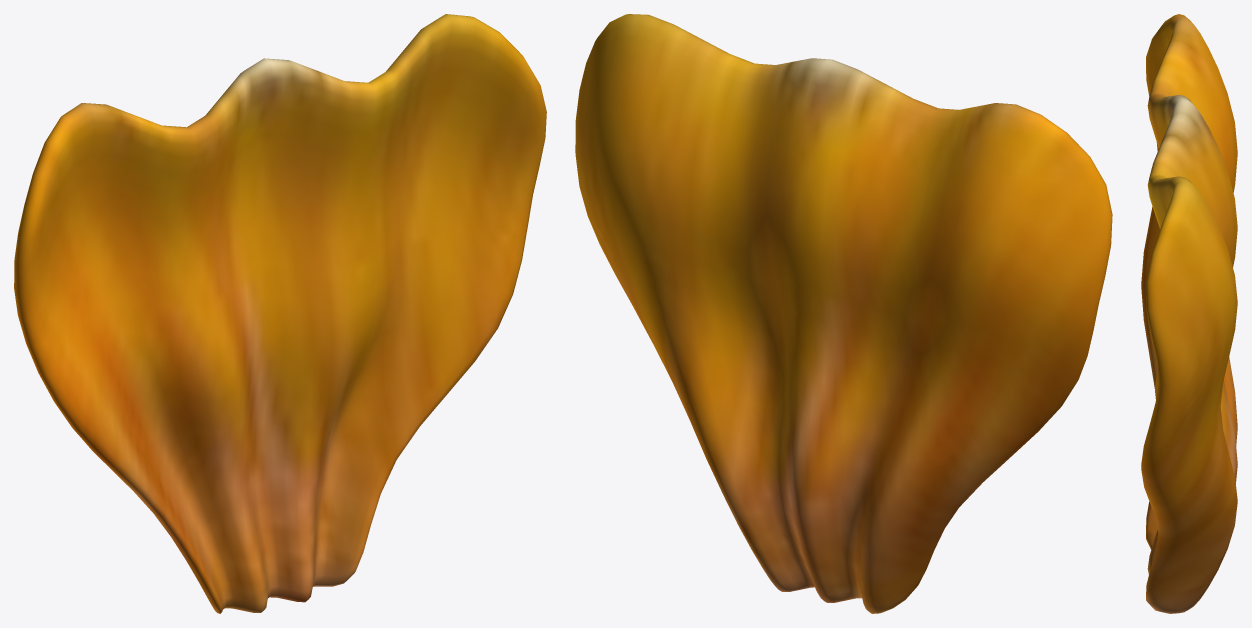
File: OtherFin3.fbx
The picture shows the model from 3 angles, left to right: view 1: azimuth 30°, elevation 25°; view 2: azimuth 150°, elevation 25°; view 3: azimuth 270°, elevation 25°; orthographic projection. The views are drawn at different scales.
Visible parts, largest first — view 1: Cube.007; view 2: Cube.007; view 3: Cube.007.
Part boxes in pixels (box(x1,y1,x2,y2)): Cube.007: box(14, 14, 546, 613); Cube.007: box(575, 14, 1112, 613); Cube.007: box(1141, 14, 1237, 613).
Bounding box in the file's own units: 164 × 159 × 28.42.
